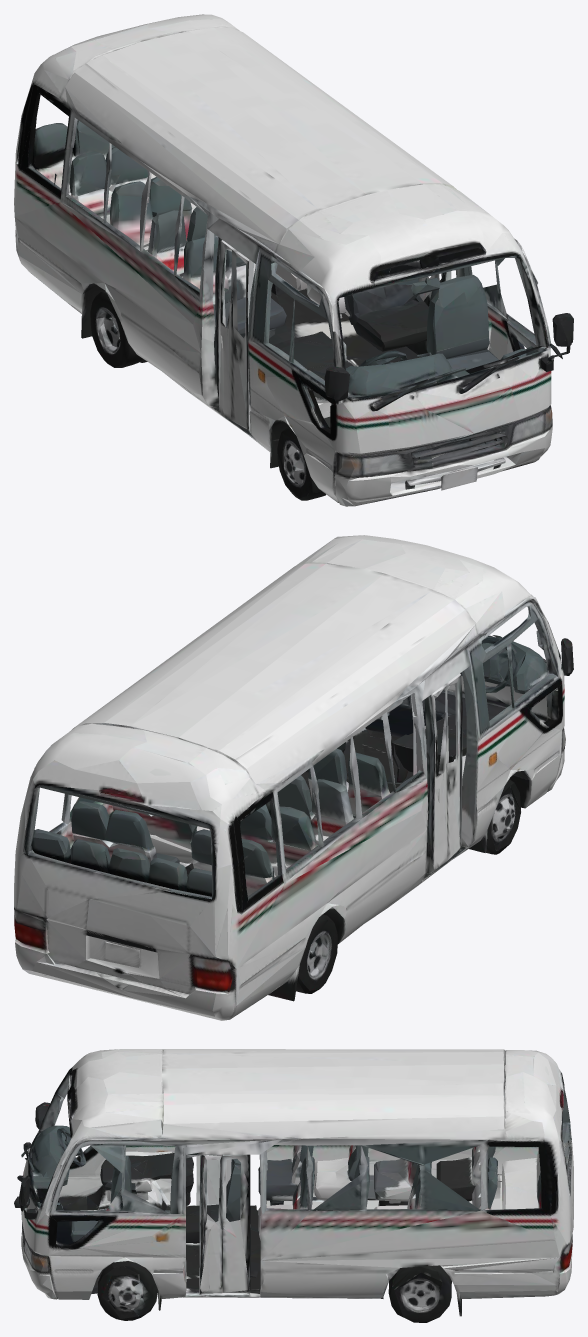
File: coaster.glb
3 views of the same model, one above another, from view 1: azimuth 30°, elevation 25°; view 2: azimuth 150°, elevation 25°; view 3: azimuth 270°, elevation 25° (orthographic). The views are drawn at different scales.
Parts seen in each view (by area): view 1: body, wheel_rr, wheel_fr; view 2: body, wheel_rr, wheel_fr; view 3: body, wheel_rl, wheel_fl.
Boxes of the visible parts, bbox=[...] form: body: bbox=[14, 14, 573, 506]; wheel_rr: bbox=[80, 283, 147, 367]; wheel_fr: bbox=[277, 429, 326, 500]; body: bbox=[14, 535, 573, 1020]; wheel_rr: bbox=[294, 903, 344, 998]; wheel_fr: bbox=[486, 780, 520, 854]; body: bbox=[14, 1049, 573, 1316]; wheel_rl: bbox=[263, 1257, 555, 1322]; wheel_fl: bbox=[91, 1266, 157, 1320].
Bounding box in the file's own units: 0.7234 × 0.7938 × 1.89.
Materials: 1 (1 with a texture image).
